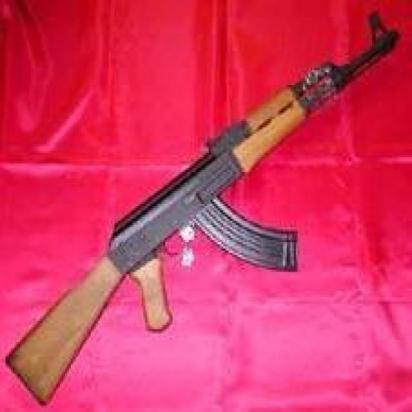Gun: (5, 14, 398, 403)
